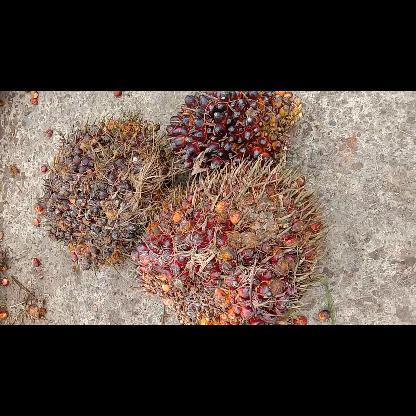Kurang masak: (40, 113, 166, 269), (166, 90, 302, 176)
TBS masak: (132, 166, 324, 322)
